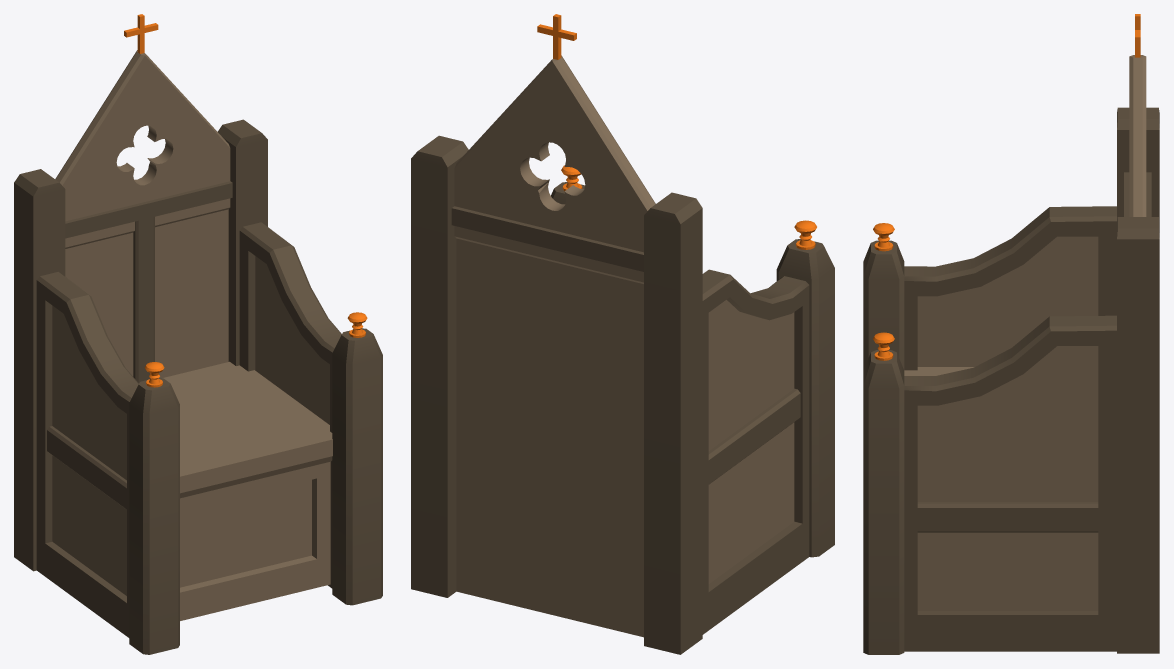
File: throne.FBX
3 views of the same model, side by side, from view 1: azimuth 30°, elevation 25°; view 2: azimuth 150°, elevation 25°; view 3: azimuth 270°, elevation 25° (orthographic). The views are drawn at different scales.
Visible parts, largest first — view 1: throne; view 2: throne; view 3: throne.
Boxes of the visible parts, box(x1,y1,x2,y2) form: throne: box(14, 14, 382, 654); throne: box(411, 14, 834, 654); throne: box(863, 14, 1159, 654).
Bounding box in the file's own units: 0.9671 × 2.01 × 0.9364.
